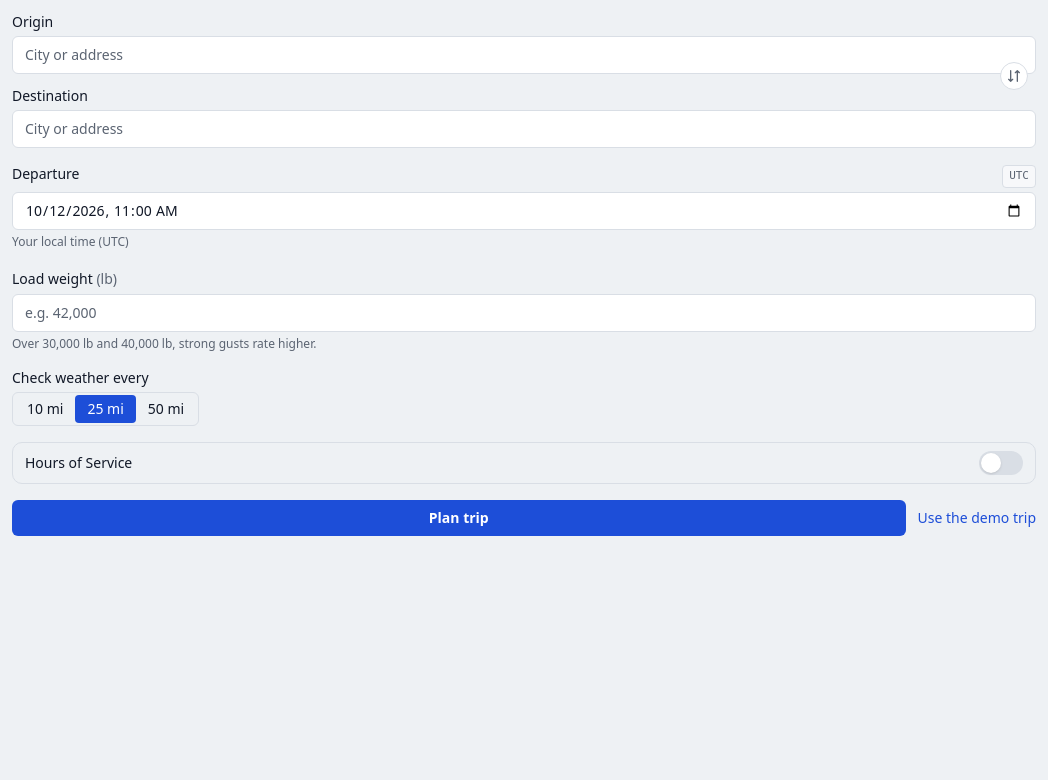
Test case: TripForm › swaps origin and destination
The width and height of the screenshot is (1048, 780).
Type "dal" into the dropdown labelled "Origin".
click(524, 55); type("dal")  # box [12,36,1036,74]
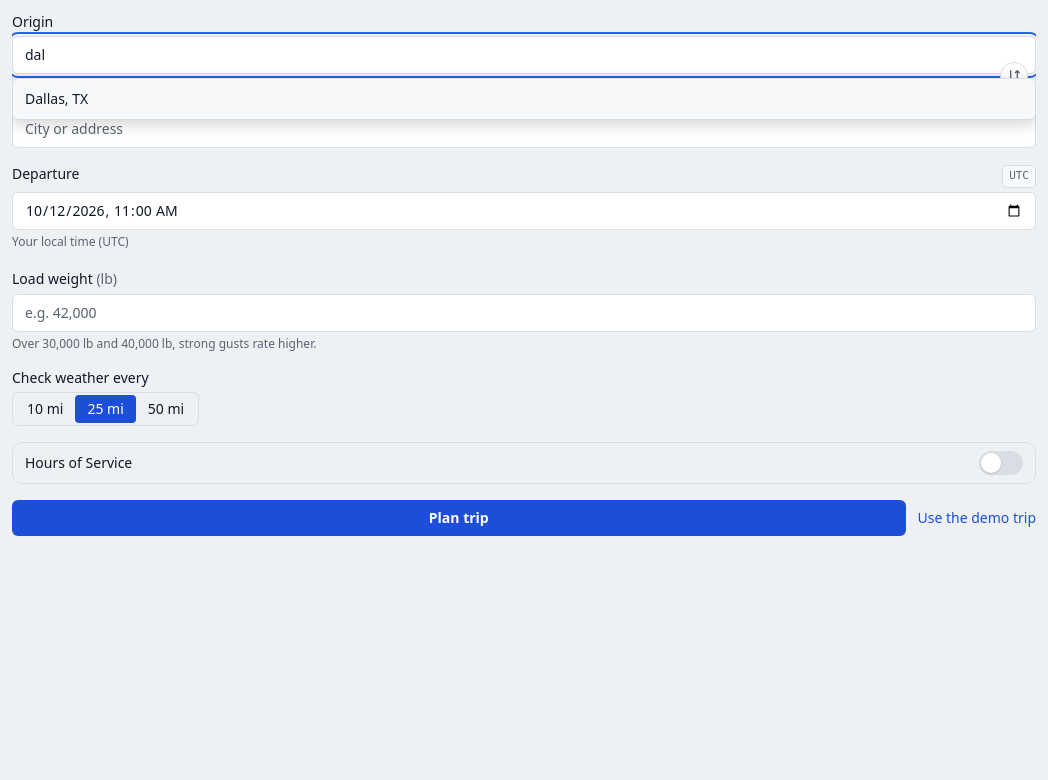
Expected: the option "Dallas, TX" is shown, [25,89,88,108]
Press Arrowdown Enter
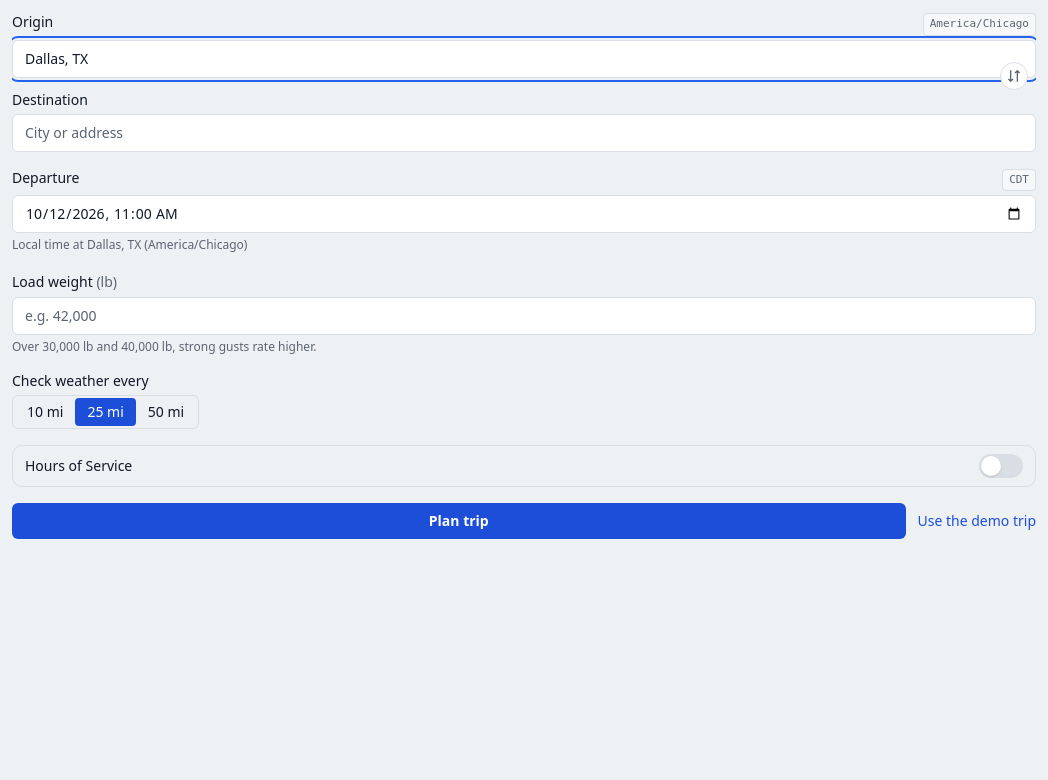
Type "den" into the dropdown labelled "Destination".
click(524, 132); type("den")  # box [12,114,1036,152]
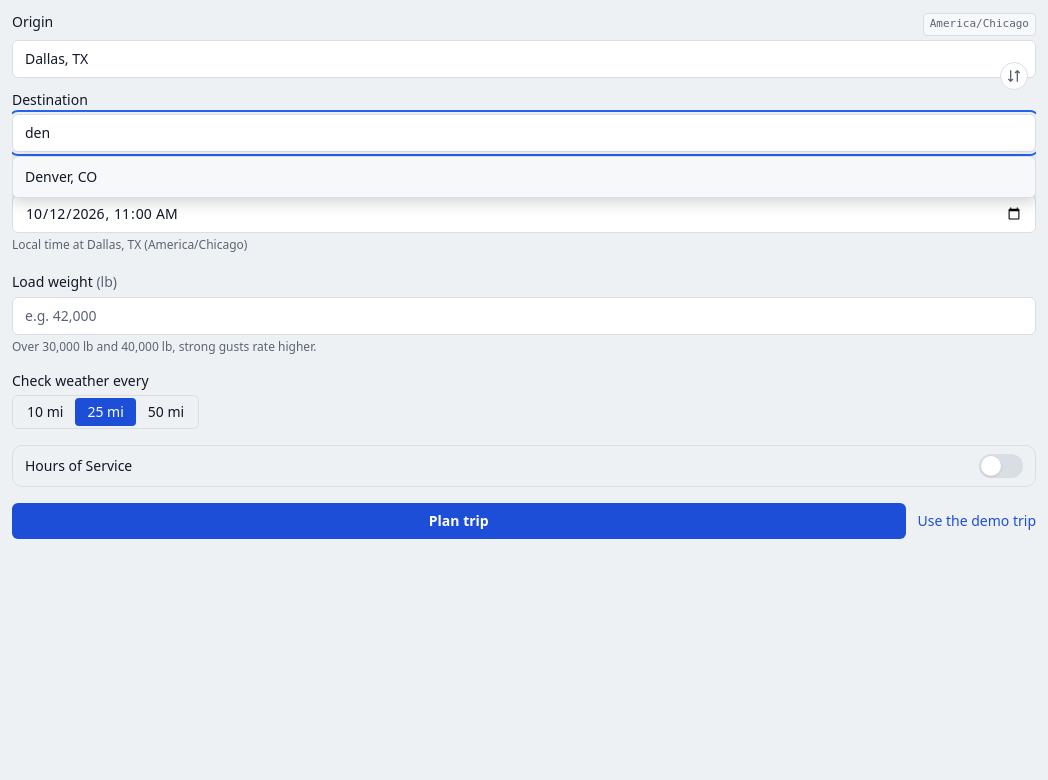
Expected: the option "Denver, CO" is shown, [25,166,97,186]
Press Arrowdown Enter
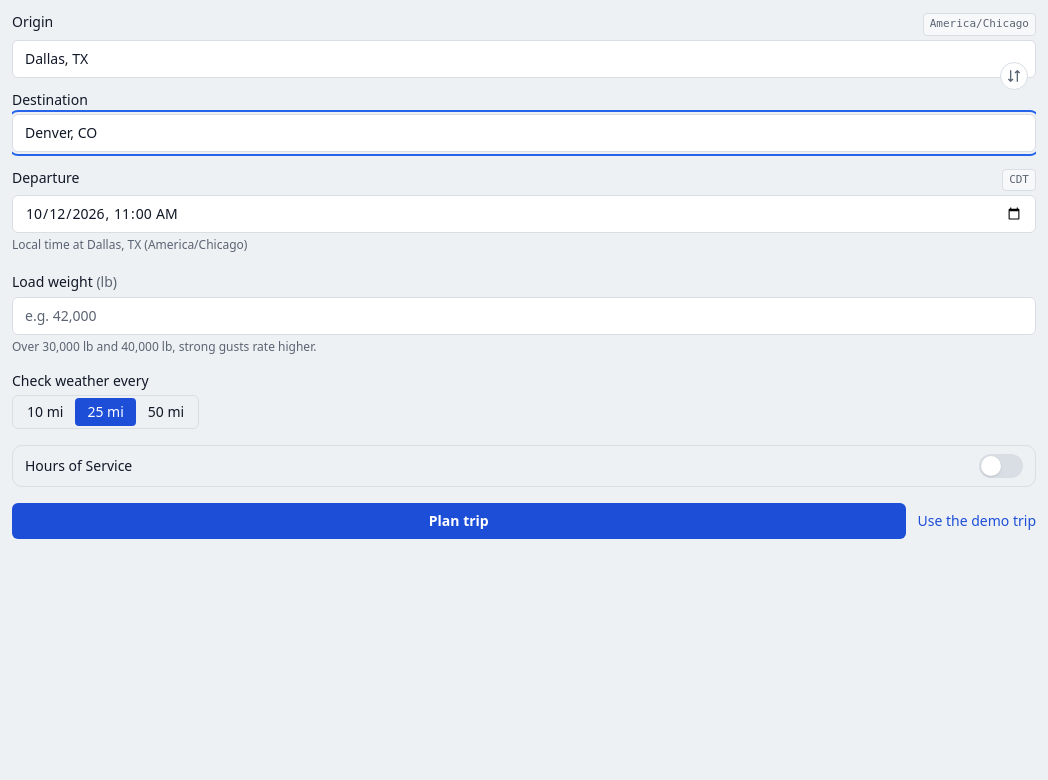
Click the button named "Swap origin and destination".
click(1014, 76)  # box [1000,62,1028,90]
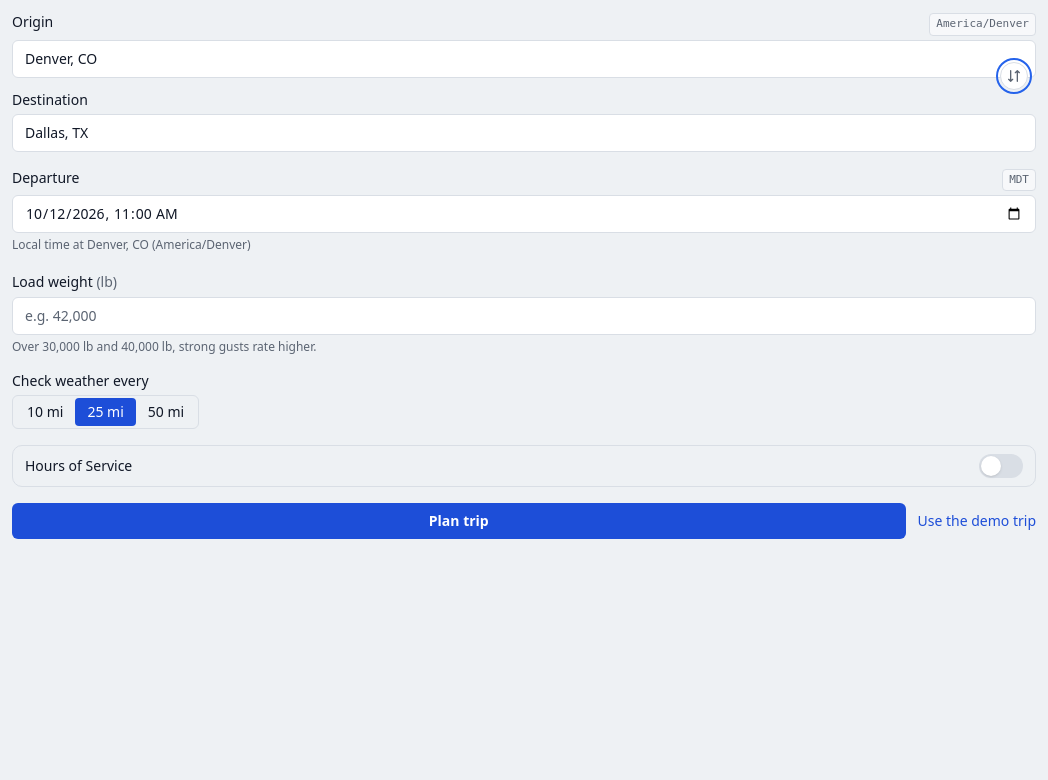
Expected: the dropdown labelled "Origin" holds "Denver, CO", [12,40,1036,78]
Expected: the dropdown labelled "Destination" holds "Dallas, TX", [12,114,1036,152]
Expected: the text "America/Denver" is shown, [929,13,1036,36]
